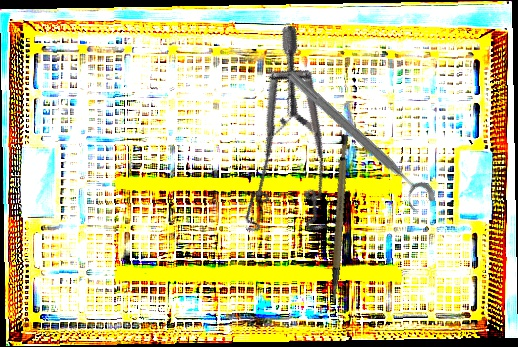Fixation Ring: (274, 64, 441, 220)
Scalpel Handle: (304, 133, 371, 306)
Speculum: (173, 23, 381, 261)
